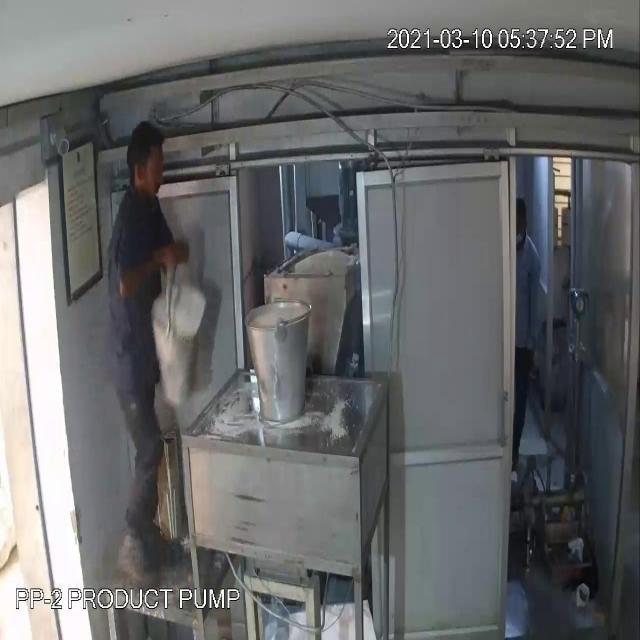No_Gloves: (110, 247, 189, 309)
